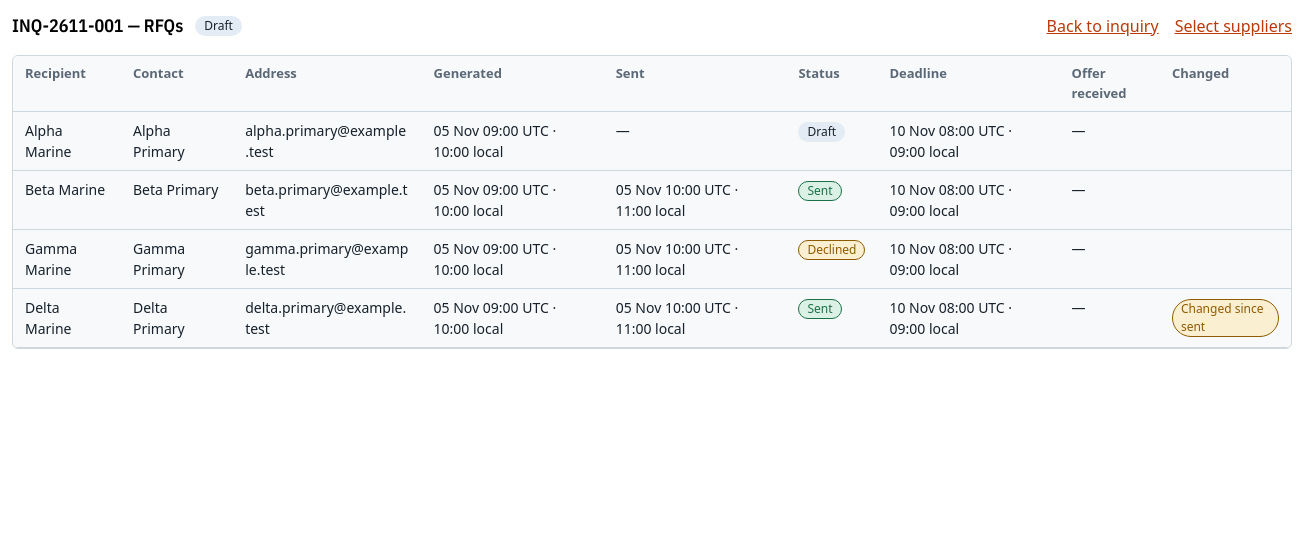
Scenario: RfqLog › [B3-R13] a buyer sees the right actions for Beta Marine
Click the cell "Beta Marine" at (67, 200), box [13,170,121,230]
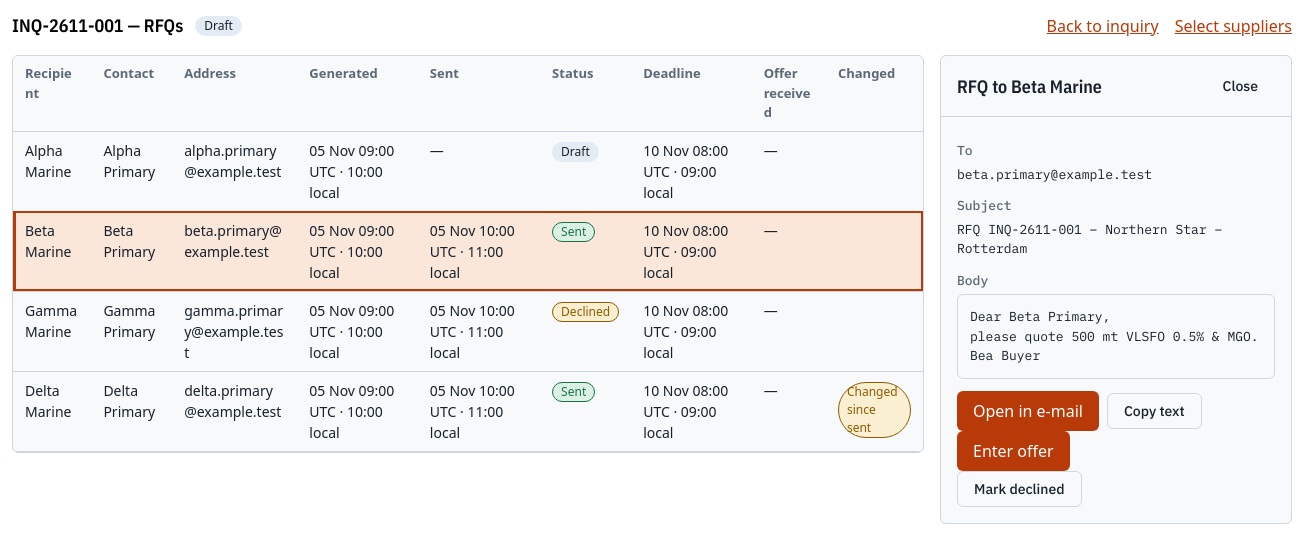
Now the link "Open in e-mail" is shown, box [957,390,1099,430]
